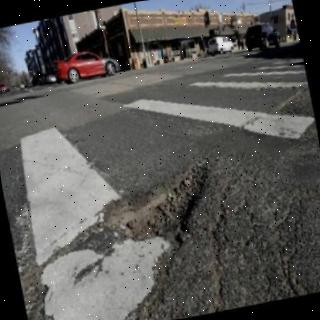pothole: (87, 164, 209, 252)
